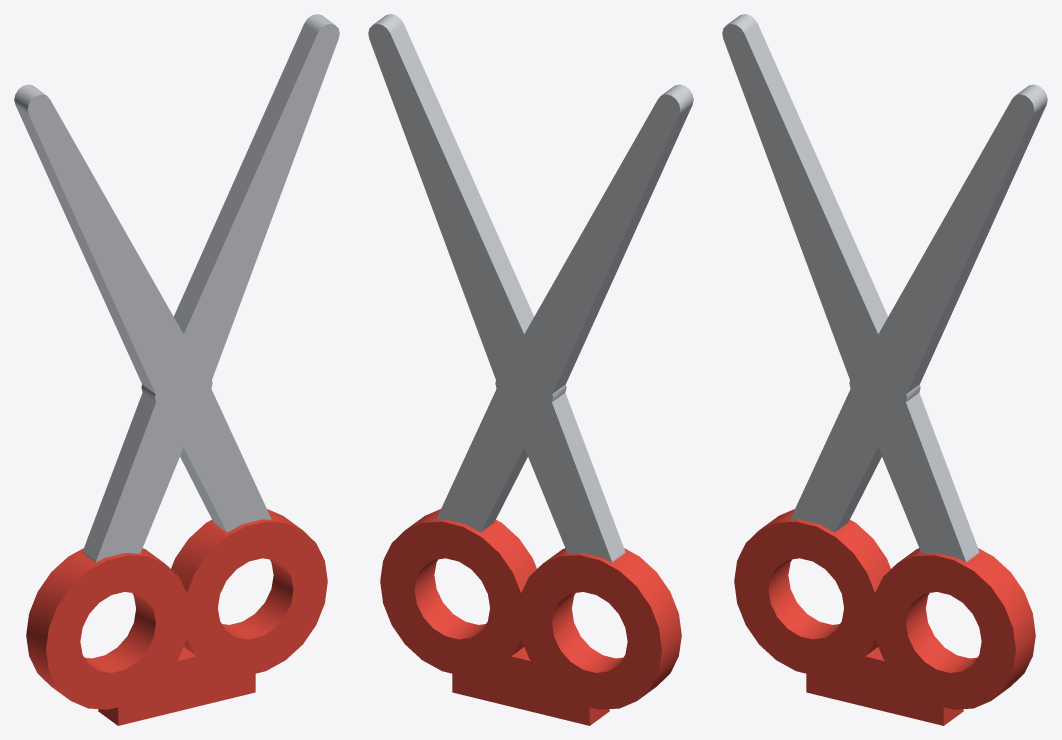
The model's file is scissors.glb.
3 renders of one model, left to right at view 1: azimuth 30°, elevation 25°; view 2: azimuth 150°, elevation 25°; view 3: azimuth 330°, elevation 25°, orthographic.
Parts seen in each view (by area): view 1: scissors; view 2: scissors; view 3: scissors.
Boxes of the visible parts, x1,y1,x2,y2 form: scissors: (14,14,339,725); scissors: (368,14,693,725); scissors: (722,14,1047,725).
Size of the model in its own units: 0.0454 by 0.09 by 0.005.
